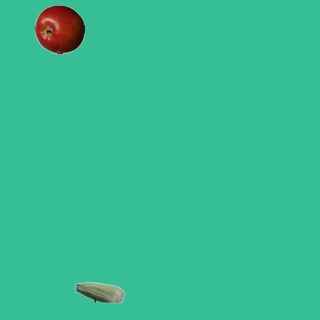Apple Braeburn: (34, 4, 84, 54)
Corn Husk: (74, 267, 124, 317)
